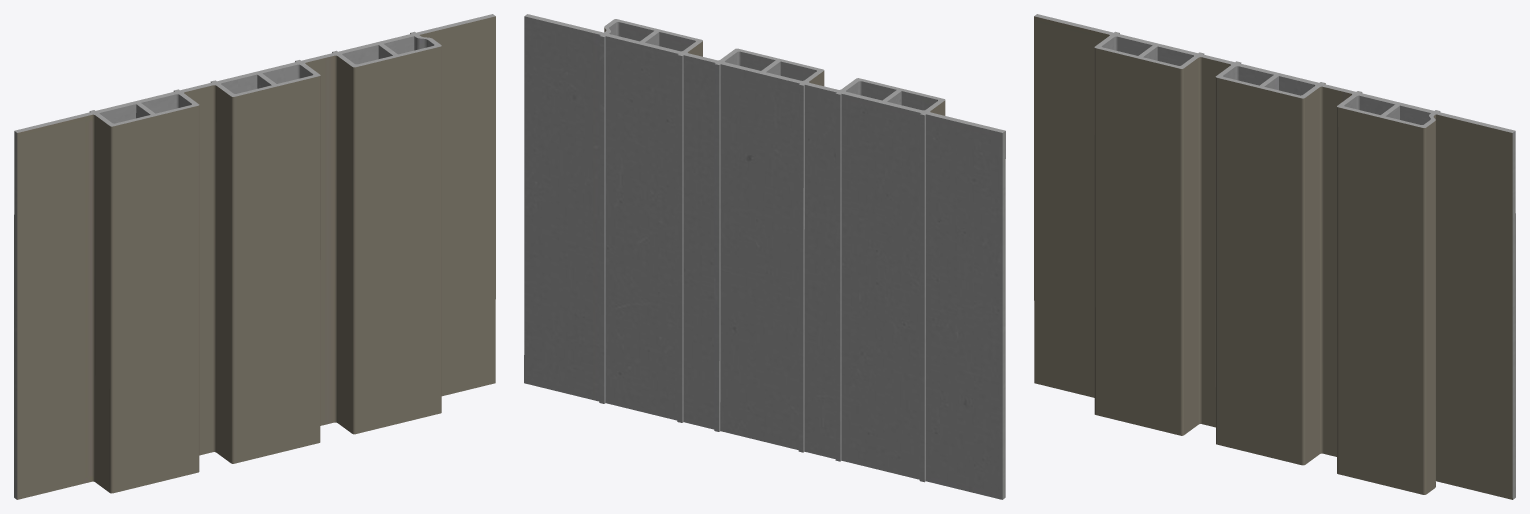
File: uclurenklibej.glb
3 views of the same model, side by side, from view 1: azimuth 30°, elevation 25°; view 2: azimuth 150°, elevation 25°; view 3: azimuth 330°, elevation 25° (orthographic).
Parts seen in each view (by area): view 1: Plane.007; view 2: Plane.007; view 3: Plane.007.
Boxes of the visible parts, <box> form: Plane.007: <box>14,14,495,499</box>; Plane.007: <box>524,14,1005,499</box>; Plane.007: <box>1034,14,1515,499</box>.
Size of the model in its own units: 10.06 by 7.37 by 0.7962.
Materials: 2 (2 with a texture image).
